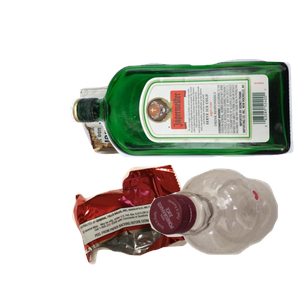cardboard: (77, 79, 251, 227)
glass: (67, 56, 300, 206)
plastic: (146, 166, 300, 300)
trash: (70, 162, 257, 300)
